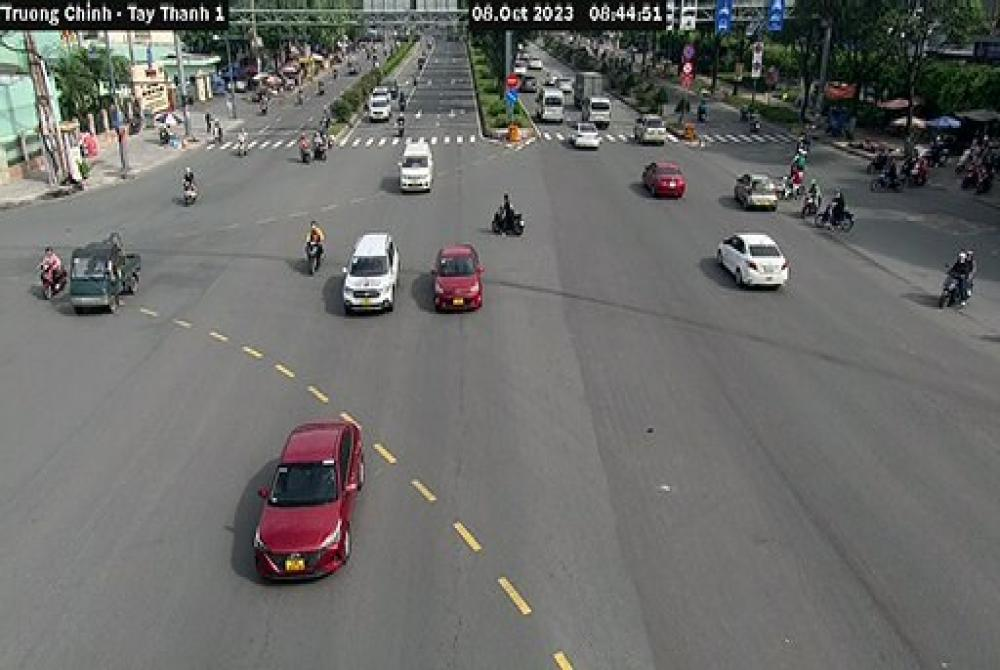car: (246, 413, 369, 578), (341, 220, 398, 328), (715, 226, 792, 302), (432, 240, 488, 316), (730, 166, 778, 220), (641, 157, 690, 205), (397, 135, 436, 195)
truck: (65, 230, 143, 315)
